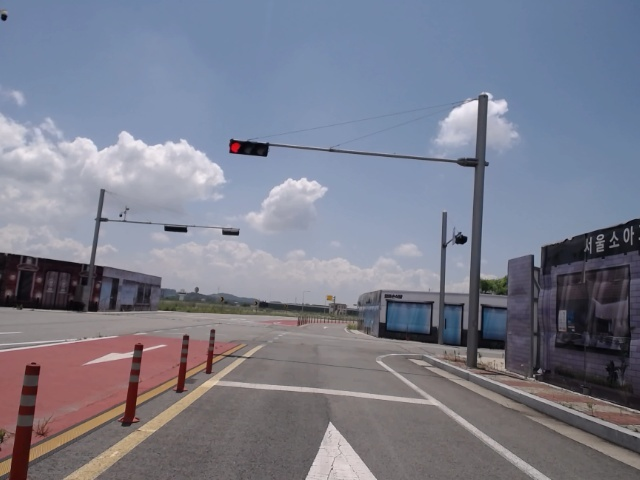red_3: (227, 138, 271, 157)
